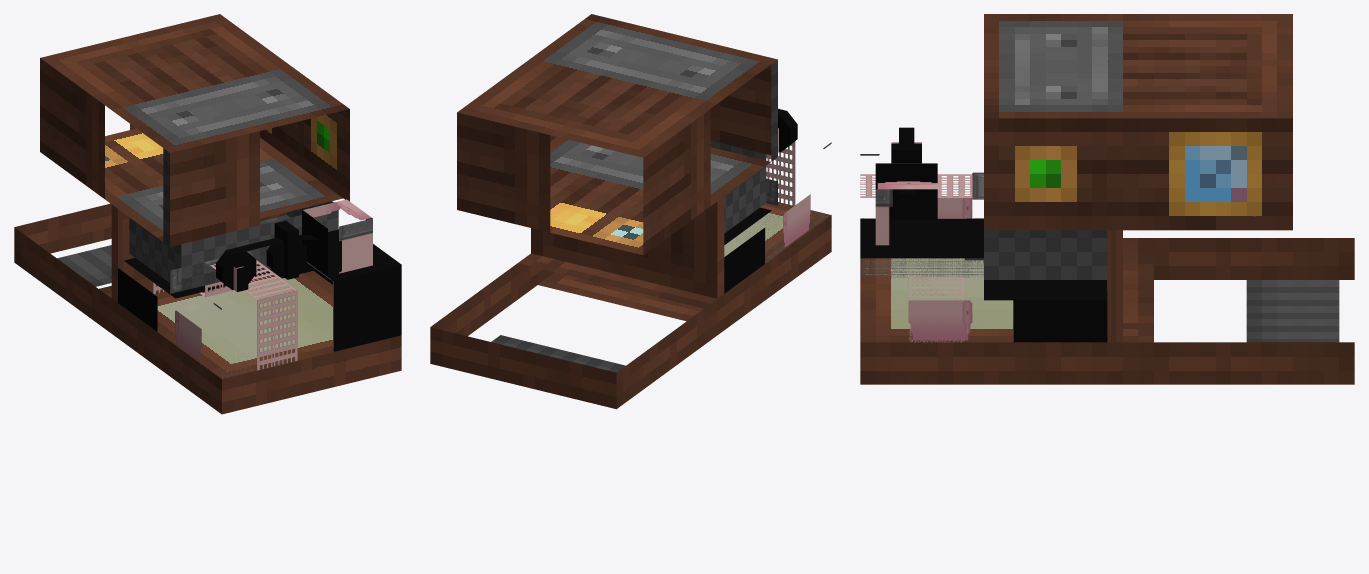
File: panel_designer.obj
3 views of the same model, side by side, from view 1: azimuth 30°, elevation 25°; view 2: azimuth 150°, elevation 25°; view 3: azimuth 270°, elevation 25° (orthographic). The views are drawn at different scales.
Visible parts, largest first — view 1: cube0.001, base_Cube.001; view 2: cube0.001, base_Cube.001; view 3: cube0.001, base_Cube.001.
Part boxes in pixels (x1,y1,x2,y2): cube0.001: (14,14,401,414); base_Cube.001: (118,199,401,378); cube0.001: (430,14,831,409); base_Cube.001: (724,108,831,293); cube0.001: (860,14,1354,384); base_Cube.001: (860,127,1107,342).
Bounding box in the file's own units: 1 × 2 × 2.
